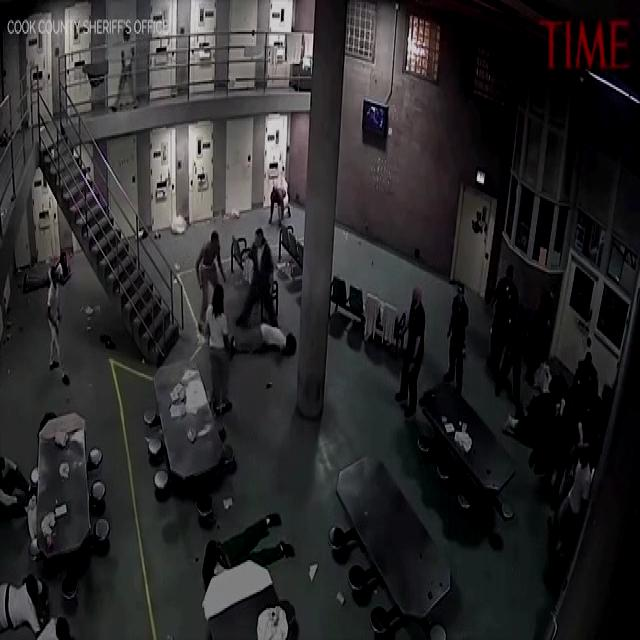fight: (524, 316, 600, 574)
